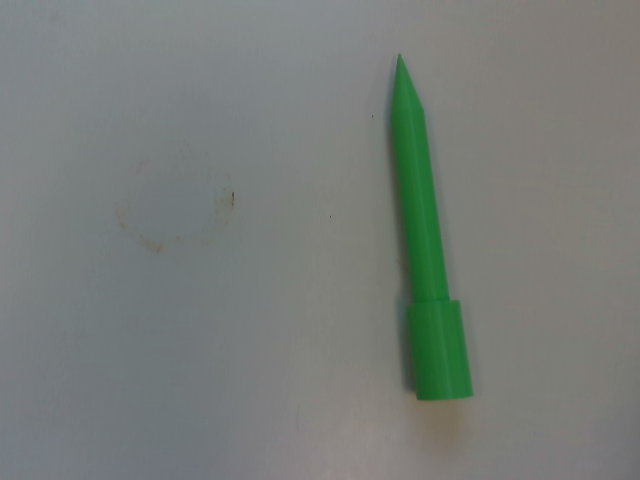Probe: (387, 48, 480, 407)
